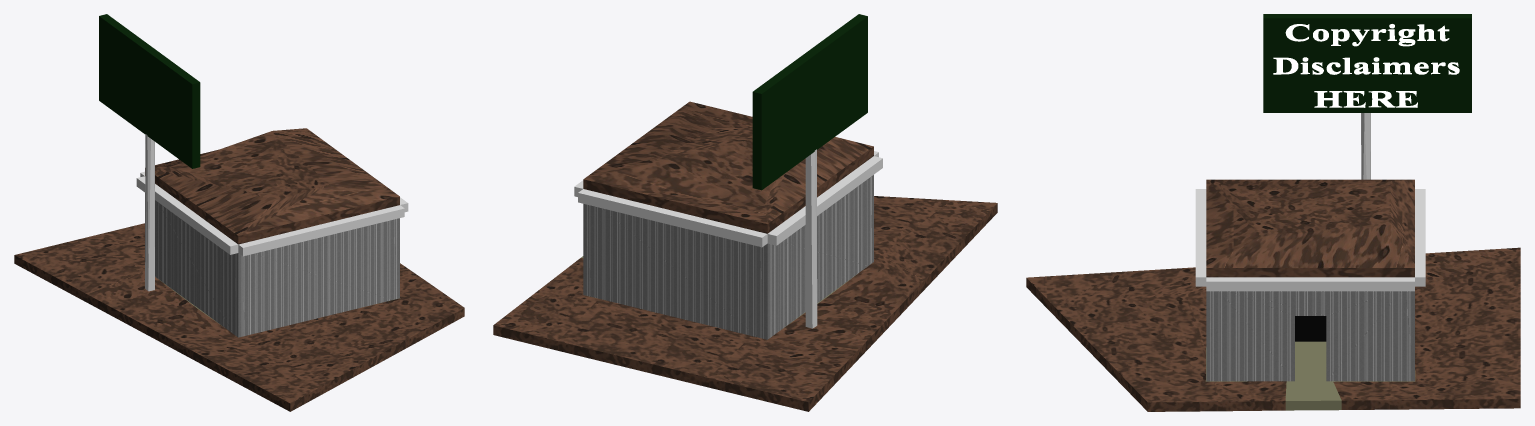
Rendered from CopyrightOffices.glb.
3 renders of one model, left to right at view 1: azimuth 30°, elevation 25°; view 2: azimuth 150°, elevation 25°; view 3: azimuth 270°, elevation 25°, orthographic. The views are drawn at different scales.
Parts seen in each view (by area): view 1: Ground, Roof, Walls, Sign; view 2: Ground, Walls, Roof, Sign; view 3: Ground, Roof, Sign, Walls, Sign Text, 4th Wall.
Boxes of the visible parts, x1,y1,x2,y2 form: Ground: (14, 223, 464, 411); Roof: (136, 128, 408, 256); Walls: (145, 193, 399, 337); Sign: (99, 14, 200, 291); Ground: (493, 196, 997, 411); Walls: (583, 175, 873, 339); Roof: (574, 101, 882, 247); Sign: (752, 14, 867, 328); Ground: (1026, 247, 1520, 411); Roof: (1195, 179, 1425, 291); Sign: (1263, 14, 1471, 179); Walls: (1206, 291, 1414, 381); Sign Text: (1273, 24, 1459, 107); 4th Wall: (1295, 316, 1326, 341).
Bounding box in the file's own units: 10.69 × 8.93 × 14.43.
8 materials, 2 textured.
